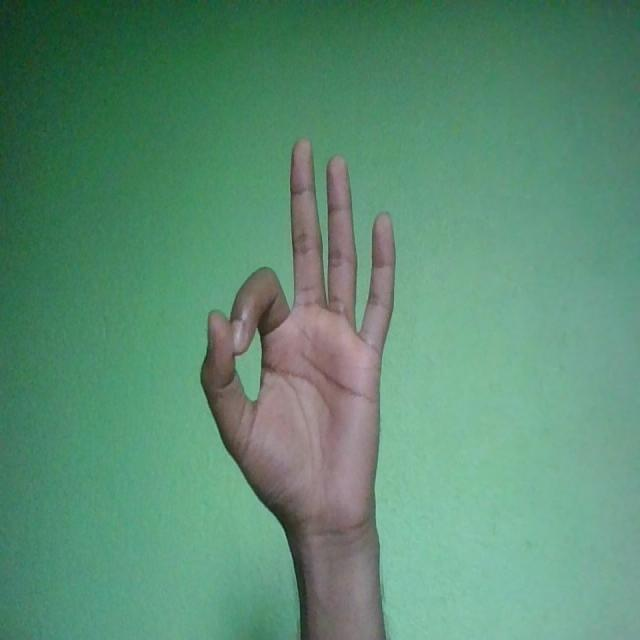Rock On: (201, 138, 396, 543)
